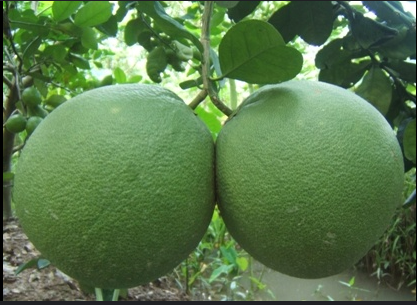buoi: (13, 81, 219, 292), (211, 73, 406, 279)
